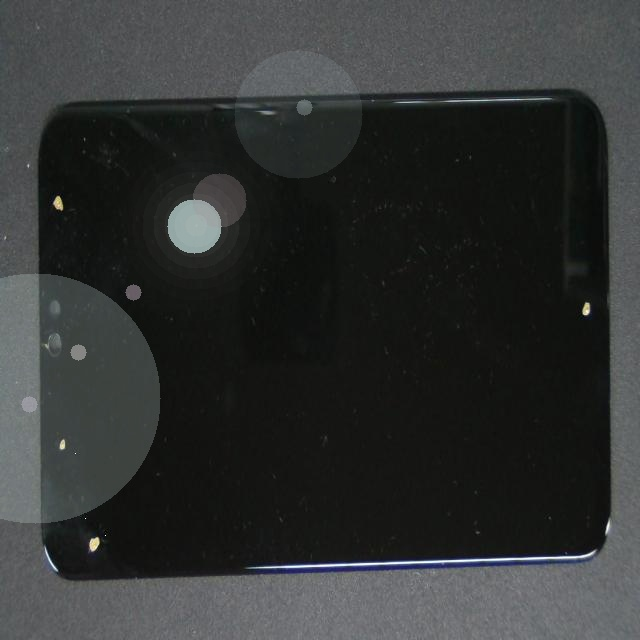stain: (282, 119, 640, 464), (36, 261, 122, 640), (24, 245, 74, 640), (9, 108, 88, 334)
